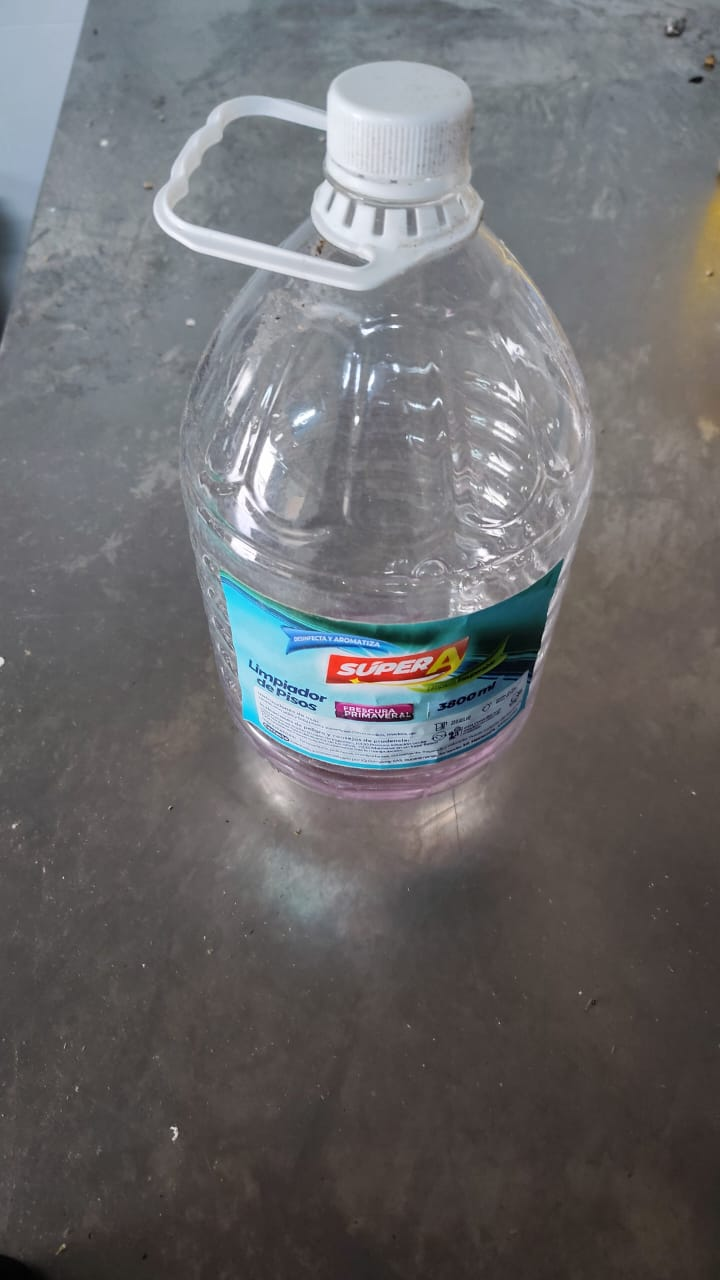Plastico: (154, 61, 596, 809)
